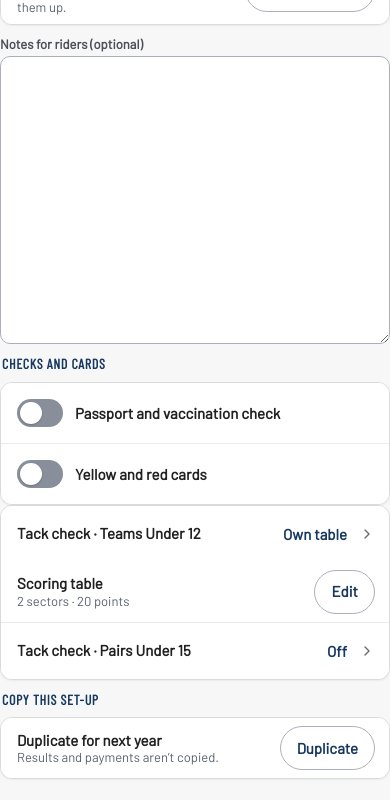
Test: EventDetailsPage › turns the passport check on at once, and puts the switch back if it fails
(page scrolled)
Click the switch labelled "Passport and vaccination check". click: (149, 413)
box: [17,391,280,435]
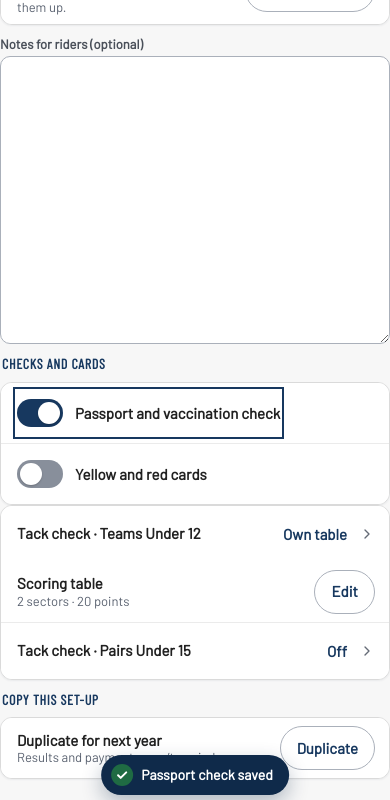
Now the switch labelled "Passport and vaccination check" is checked
Click the switch labelled "Passport and vaccination check". click: (149, 413)
box: [17,391,280,435]
(page scrolled)
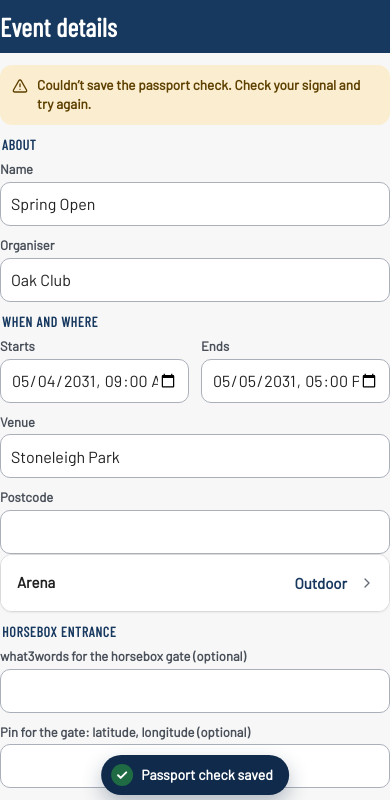
Now the message "Couldn’t save the passport check. Check your signal and try again." is shown, box [0,65,389,125]
